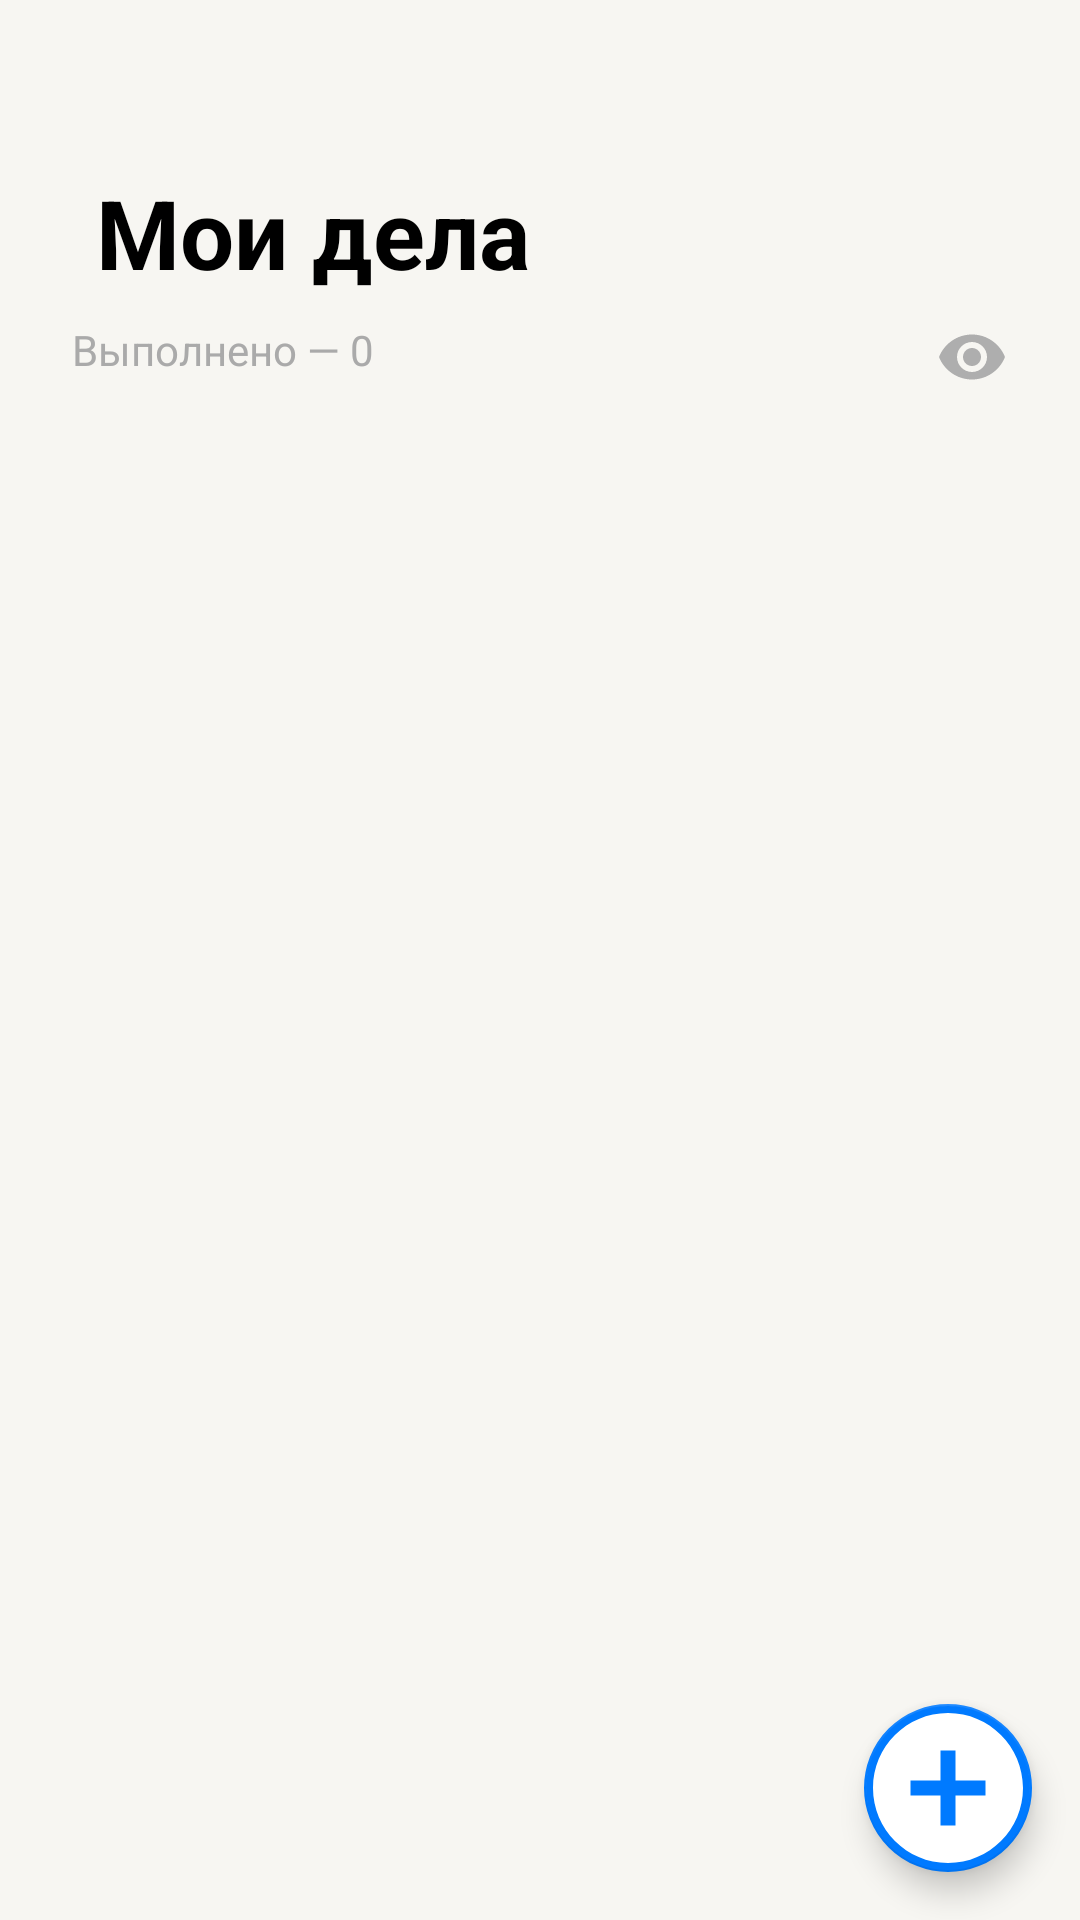

Icon click points for this 1080*1920 phone screenshot, format (x=x, y=y):
add circle: (x=948, y=1788)
eye: (x=972, y=357)
